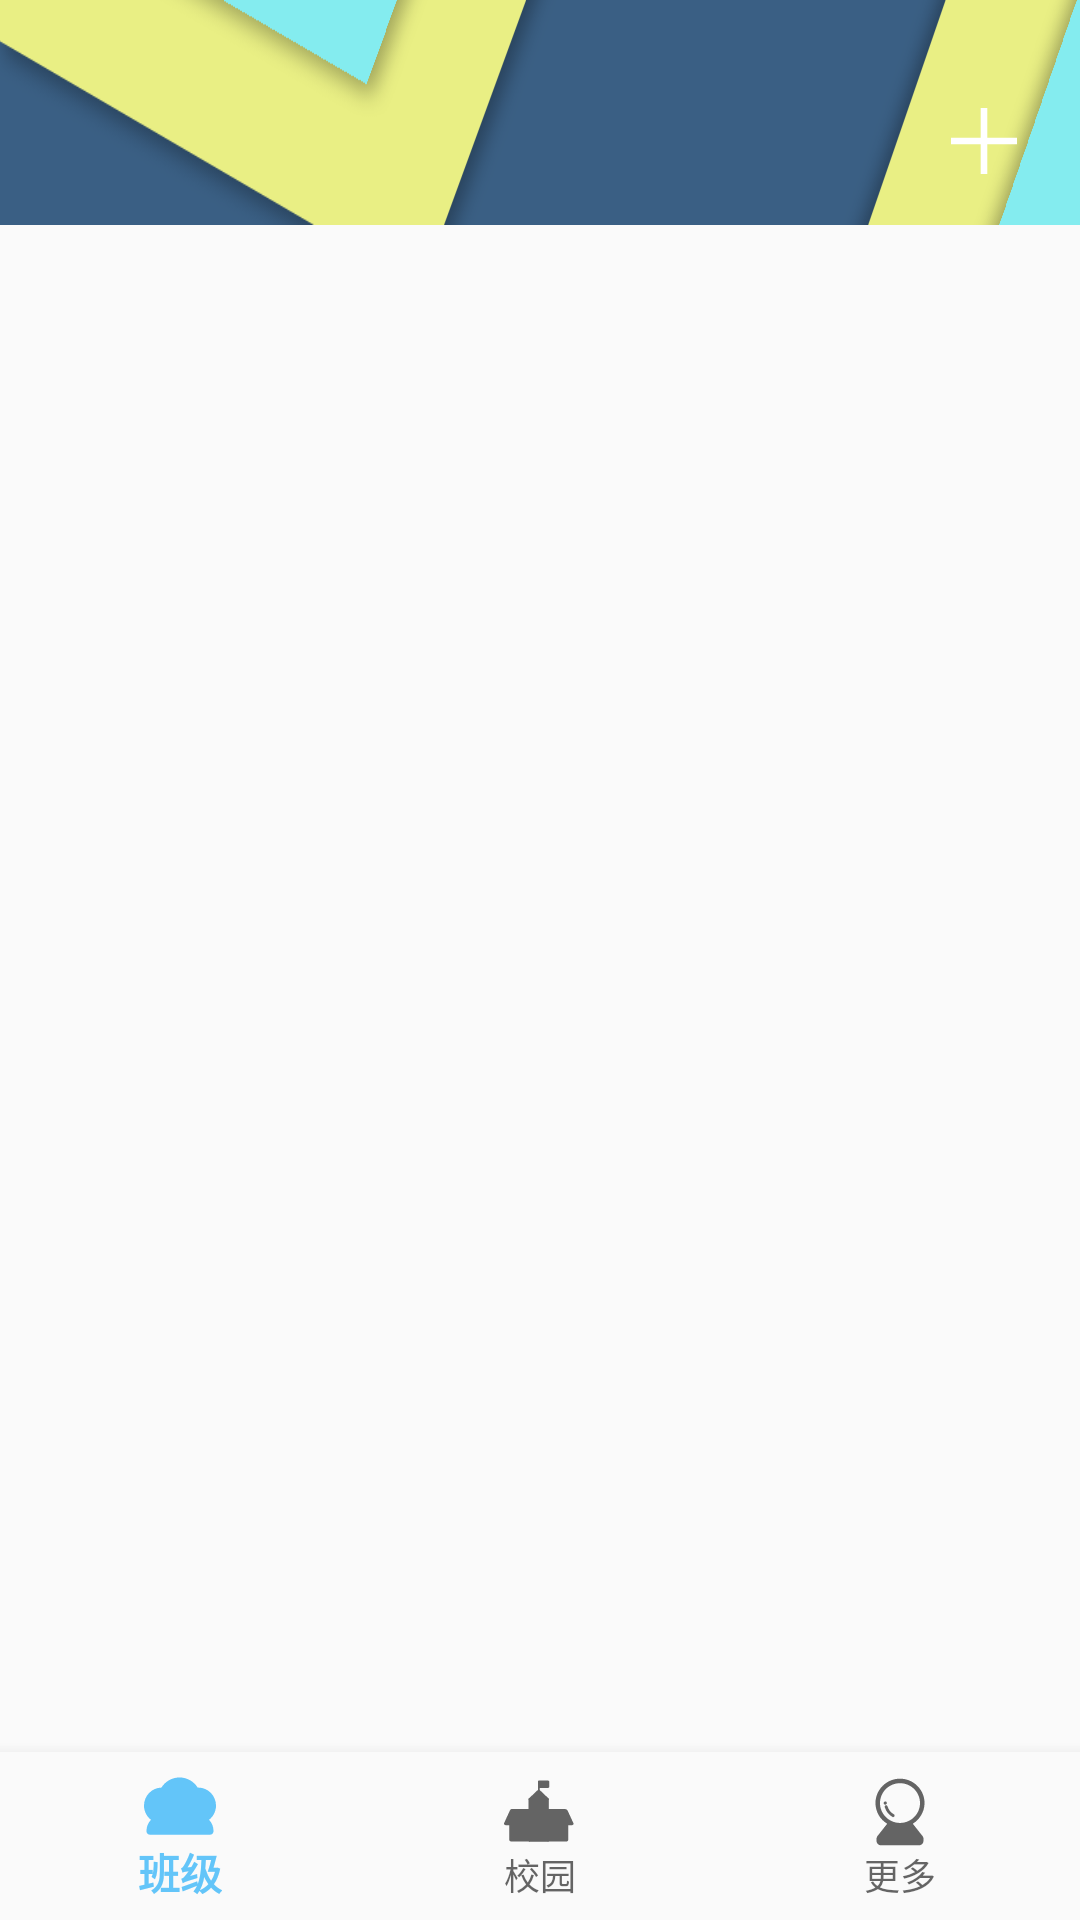

Point at icon controls on the screen. Image size 1080w x 1920h, points as (x=x, y=y).
操作: (x=985, y=142)
